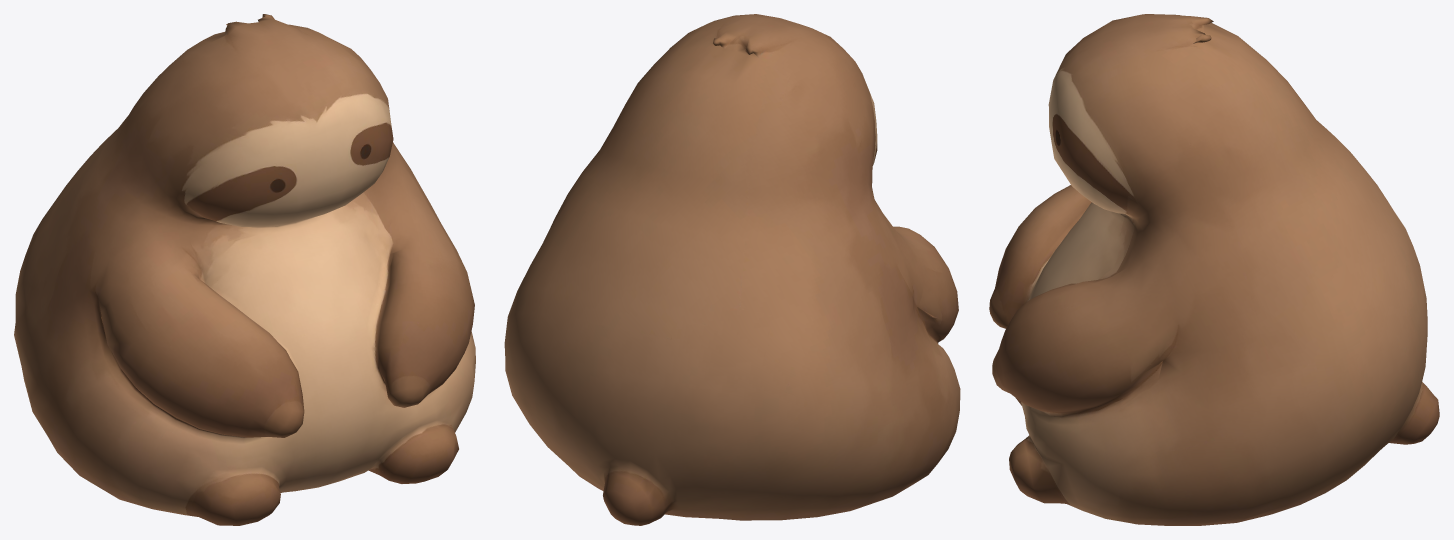
File: Animal_Sloth_01.glb
3 views of the same model, side by side, from view 1: azimuth 30°, elevation 25°; view 2: azimuth 150°, elevation 25°; view 3: azimuth 270°, elevation 25° (orthographic).
Visible parts, largest first — view 1: Animal_Sloth_01.001; view 2: Animal_Sloth_01.001; view 3: Animal_Sloth_01.001.
Boxes of the visible parts, bbox=[...] form: Animal_Sloth_01.001: bbox=[14, 14, 475, 525]; Animal_Sloth_01.001: bbox=[504, 14, 960, 525]; Animal_Sloth_01.001: bbox=[989, 14, 1439, 525].
Size of the model in its own units: 0.9712 by 1 by 0.9494.
Materials: 1 (1 with a texture image).
